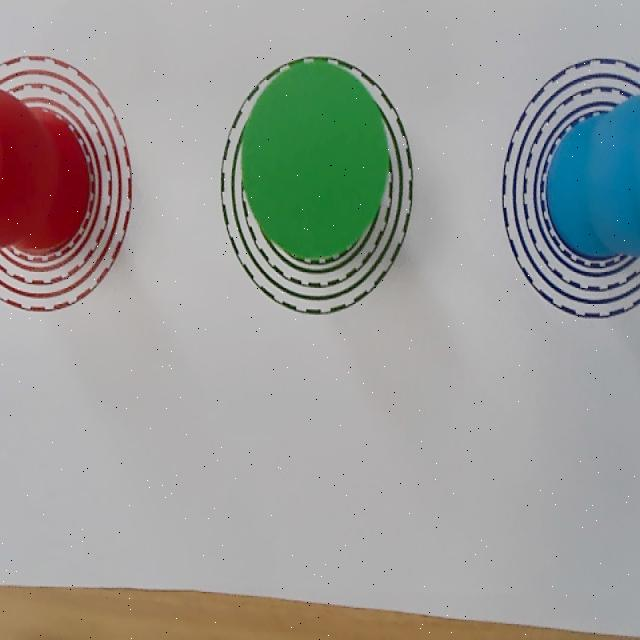g: (242, 62, 388, 260)
